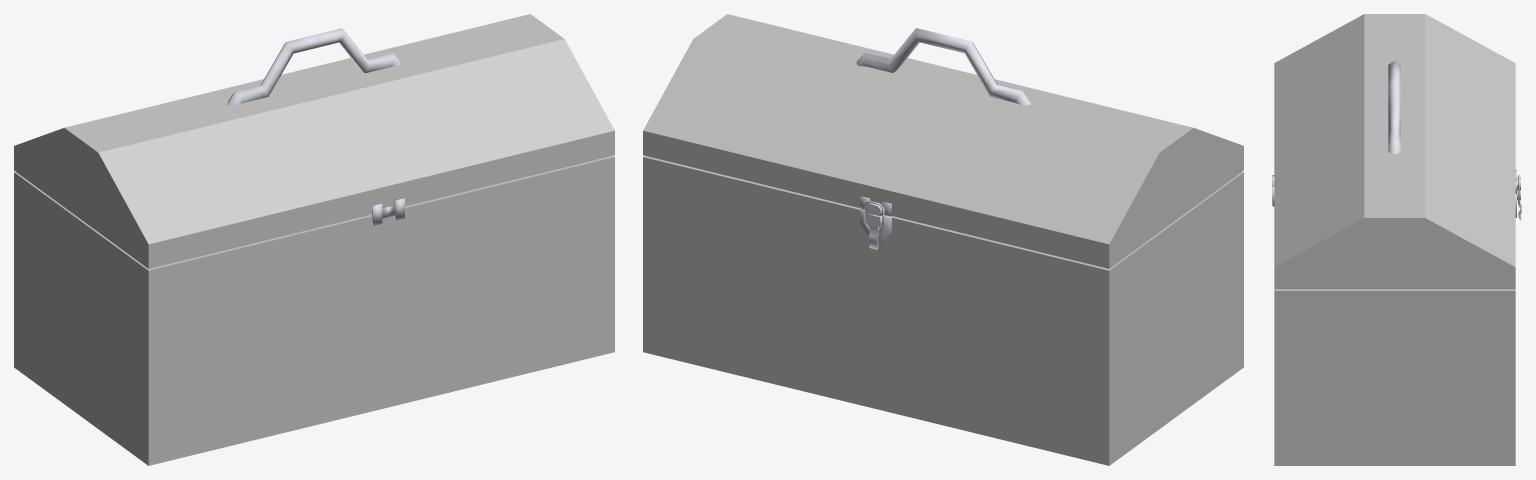
Rendered from toolbox.gltf.
3 renders of one model, left to right at view 1: azimuth 30°, elevation 25°; view 2: azimuth 150°, elevation 25°; view 3: azimuth 270°, elevation 25°, orthographic. The views are drawn at different scales.
Visible parts, largest first — view 1: box, handle; view 2: box, handle, Box008; view 3: box, handle.
Part boxes in pixels (<box>): box: <box>14,14,614,465</box>; handle: <box>227,28,401,106</box>; box: <box>643,14,1243,465</box>; handle: <box>856,28,1030,105</box>; Box008: <box>860,196,891,245</box>; box: <box>1274,14,1515,465</box>; handle: <box>1388,60,1400,154</box>.
Size of the model in its own units: 0.5 by 0.3331 by 0.2584.
